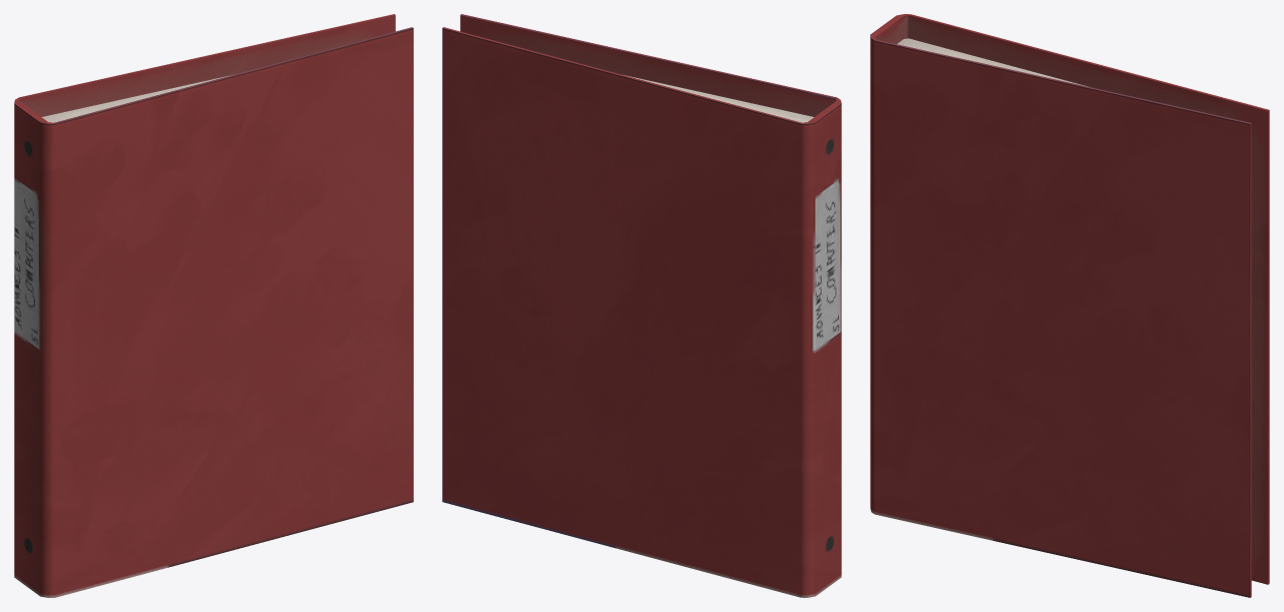
The model's file is SM_Binder_01h.fbx.
3 views of the same model, side by side, from view 1: azimuth 30°, elevation 25°; view 2: azimuth 150°, elevation 25°; view 3: azimuth 330°, elevation 25° (orthographic).
Visible parts, largest first — view 1: SM_Binder_01h_LOD0; view 2: SM_Binder_01h_LOD0; view 3: SM_Binder_01h_LOD0.
Boxes of the visible parts, x1,y1,x2,y2 form: SM_Binder_01h_LOD0: [14, 14, 413, 597]; SM_Binder_01h_LOD0: [442, 14, 841, 597]; SM_Binder_01h_LOD0: [870, 14, 1269, 597].
Bounding box in the file's own units: 27.47 × 4.57 × 33.01.
